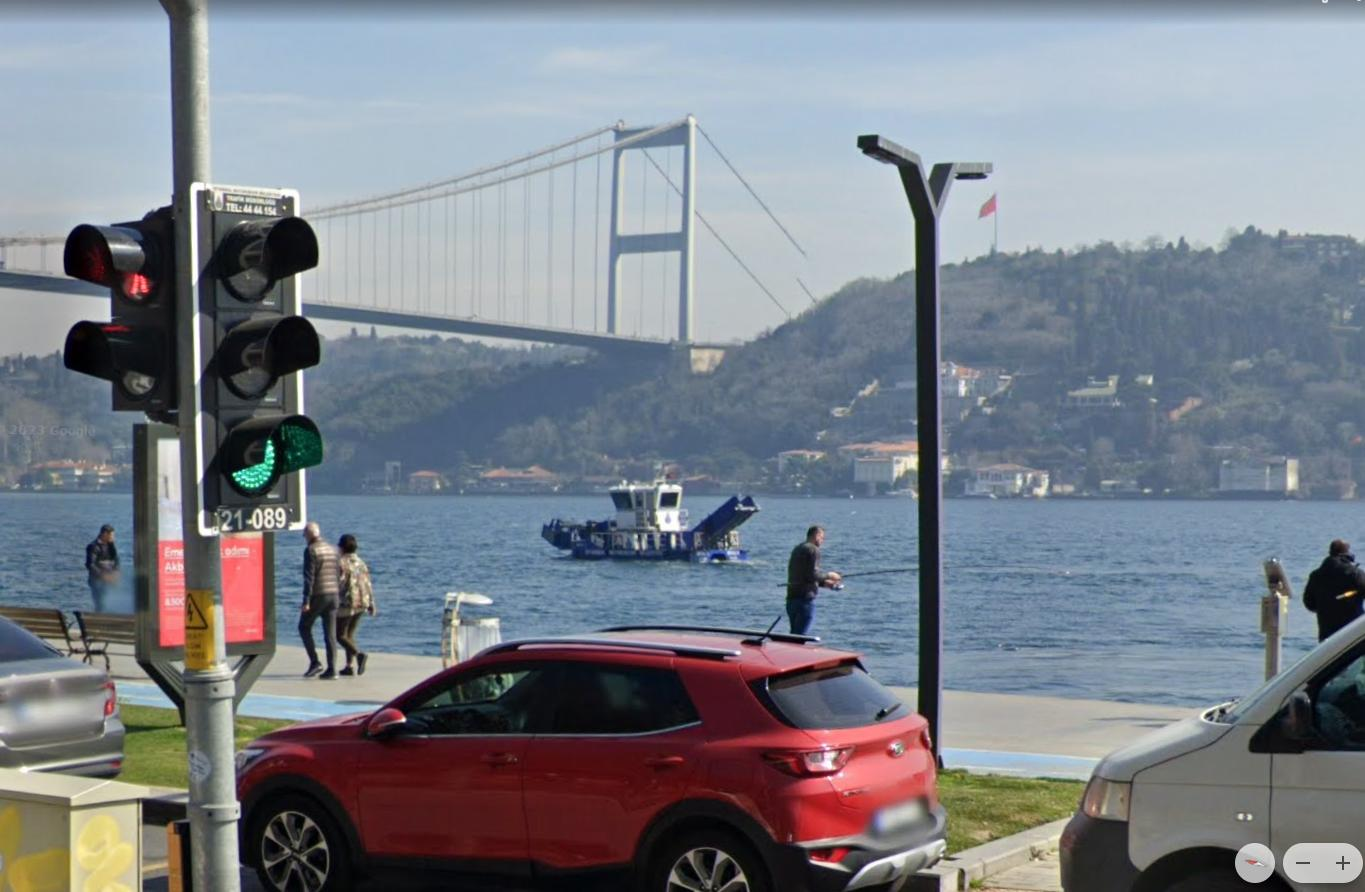greenlight: (188, 203, 319, 538)
